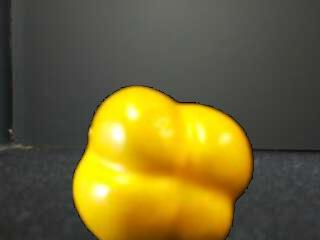Capsicum: (72, 89, 256, 240)
